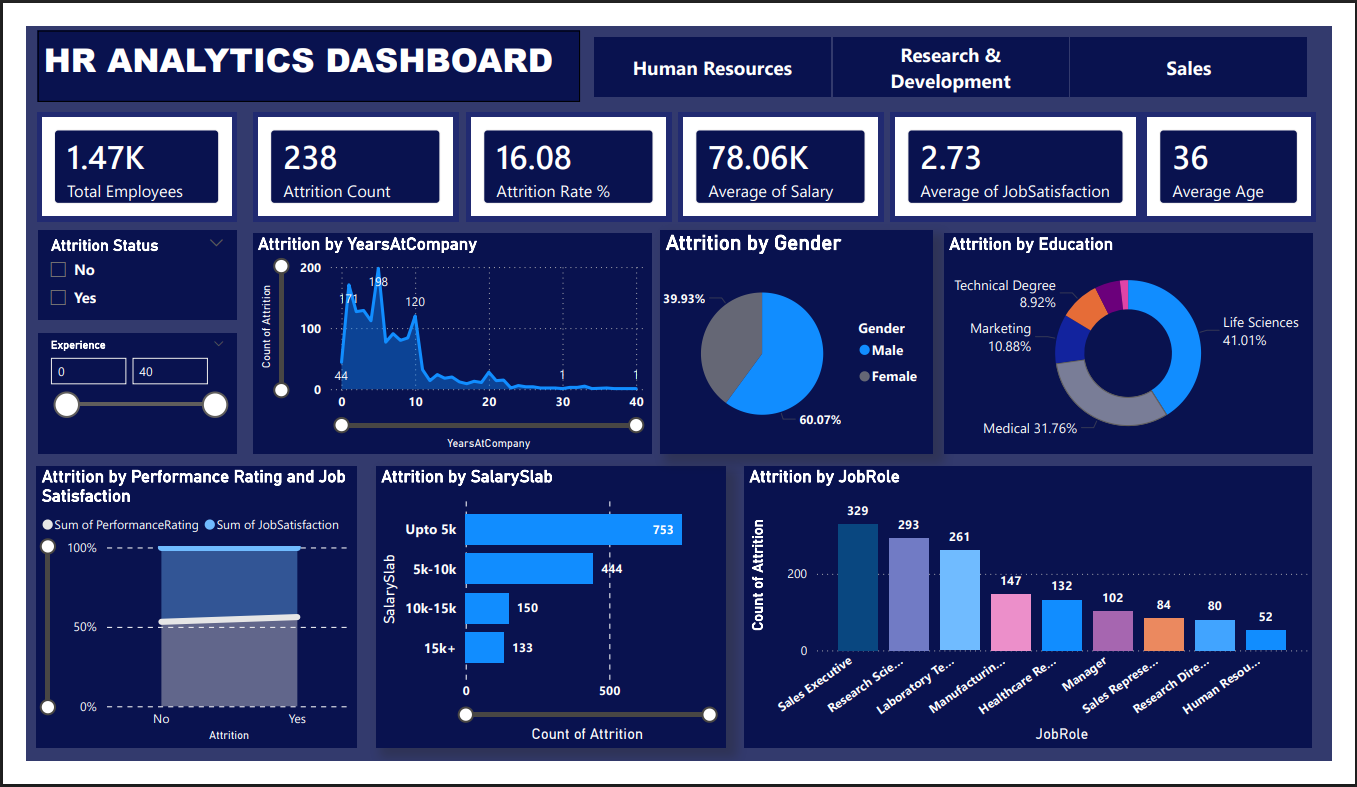

This screenshot's page, from the dashboard's own definition file:
{"tool":"powerbi","page":{"name":"Page 1","canvas":[1280,720],"ordinal":0},"visuals":[{"type":"textbox","box":[11,4.1,532.4,70],"z":0},{"type":"cardVisual","fields":{"Data":["Count(HR_Analytics.EmpID)"]},"box":[9.6,83.7,196.2,107],"z":1000},{"type":"clusteredBarChart","title":"Attrition by SalarySlab","fields":{"Y":["CountNonNull(HR_Analytics.Attrition)"],"Category":["HR_Analytics.SalarySlab"]},"box":[343.1,430.9,343.1,275.8],"z":2000},{"type":"pieChart","title":"Attrition by Gender","fields":{"Category":["HR_Analytics.Gender"],"Y":["CountNonNull(HR_Analytics.Attrition)"]},"box":[621.6,200.3,267.6,218.2],"z":3000},{"type":"slicer","fields":{"Values":["HR_Analytics.Attrition"]},"box":[11,200.3,194.9,87.8],"z":4000},{"type":"donutChart","title":"Attrition by Education","fields":{"Category":["HR_Analytics.EducationField"],"Y":["CountNonNull(HR_Analytics.Attrition)"]},"box":[900.2,203.1,360.9,215.4],"z":5000},{"type":"areaChart","title":"Attrition by YearsAtCompany","fields":{"Category":["HR_Analytics.YearsAtCompany"],"Y":["CountNonNull(HR_Analytics.Attrition)"]},"box":[222.3,203.1,391.1,215.4],"z":6000},{"type":"slicer","fields":{"Values":["HR_Analytics.Department"]},"box":[531,4.1,749.2,70],"z":7000},{"type":"clusteredColumnChart","title":"Attrition by JobRole","fields":{"Category":["HR_Analytics.JobRole"],"Y":["CountNonNull(HR_Analytics.Attrition)"]},"box":[703.9,430.9,557.1,275.8],"z":8000},{"type":"hundredPercentStackedAreaChart","title":"Attrition by Performance Rating and Job Satisfaction","fields":{"Y":["Sum(HR_Analytics.PerformanceRating)","Sum(HR_Analytics.JobSatisfaction)"],"Category":["HR_Analytics.Attrition"]},"box":[9.6,430.9,314.2,275.8],"z":9000},{"type":"cardVisual","fields":{"Data":["HR_Analytics.Attrition Count"]},"box":[222.3,83.7,201.7,107],"z":10000},{"type":"cardVisual","fields":{"Data":["Avg(HR_Analytics.Salary)"]},"box":[639.5,83.7,201.7,107],"z":11000},{"type":"cardVisual","fields":{"Data":["HR_Analytics.Attrition Rate %"]},"box":[430.9,83.7,201.7,107],"z":12000},{"type":"cardVisual","fields":{"Data":["Avg(HR_Analytics.JobSatisfaction)"]},"box":[846.7,83.7,247,107],"z":13000},{"type":"cardVisual","fields":{"Data":["Median(HR_Analytics.Age)"]},"box":[1093.7,83.7,170.2,107],"z":14000},{"type":"slicer","fields":{"Values":["HR_Analytics.YearsAtCompany"]},"box":[11,300.5,194.9,118],"z":15000}]}

Visuals, with their boxes on the page's 1280x720 design canvas (x1, y1, x2, y2). These are canvas units, not pixel positions in the 1357x787 screenshot, which may show the page scaled, cropped or inside an application window:
textbox: pyautogui.locateOnScreen(11, 4, 543, 74)
cardVisual - Count(HR_Analytics.EmpID): pyautogui.locateOnScreen(10, 84, 206, 191)
"Attrition by SalarySlab" clusteredBarChart: pyautogui.locateOnScreen(343, 431, 686, 707)
"Attrition by Gender" pieChart: pyautogui.locateOnScreen(622, 200, 889, 418)
slicer - HR_Analytics.Attrition: pyautogui.locateOnScreen(11, 200, 206, 288)
"Attrition by Education" donutChart: pyautogui.locateOnScreen(900, 203, 1261, 418)
"Attrition by YearsAtCompany" areaChart: pyautogui.locateOnScreen(222, 203, 613, 418)
slicer - HR_Analytics.Department: pyautogui.locateOnScreen(531, 4, 1280, 74)
"Attrition by JobRole" clusteredColumnChart: pyautogui.locateOnScreen(704, 431, 1261, 707)
"Attrition by Performance Rating and Job Satisfaction" hundredPercentStackedAreaChart: pyautogui.locateOnScreen(10, 431, 324, 707)
cardVisual - HR_Analytics.Attrition Count: pyautogui.locateOnScreen(222, 84, 424, 191)
cardVisual - Avg(HR_Analytics.Salary): pyautogui.locateOnScreen(640, 84, 841, 191)
cardVisual - HR_Analytics.Attrition Rate %: pyautogui.locateOnScreen(431, 84, 633, 191)
cardVisual - Avg(HR_Analytics.JobSatisfaction): pyautogui.locateOnScreen(847, 84, 1094, 191)
cardVisual - Median(HR_Analytics.Age): pyautogui.locateOnScreen(1094, 84, 1264, 191)
slicer - HR_Analytics.YearsAtCompany: pyautogui.locateOnScreen(11, 300, 206, 418)
